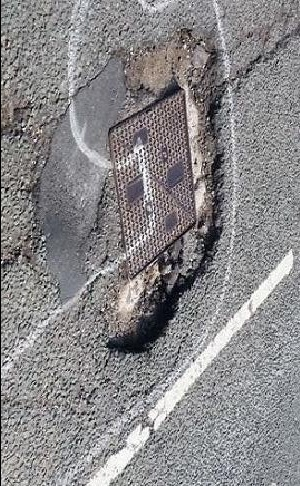pothole: (103, 22, 229, 357)
